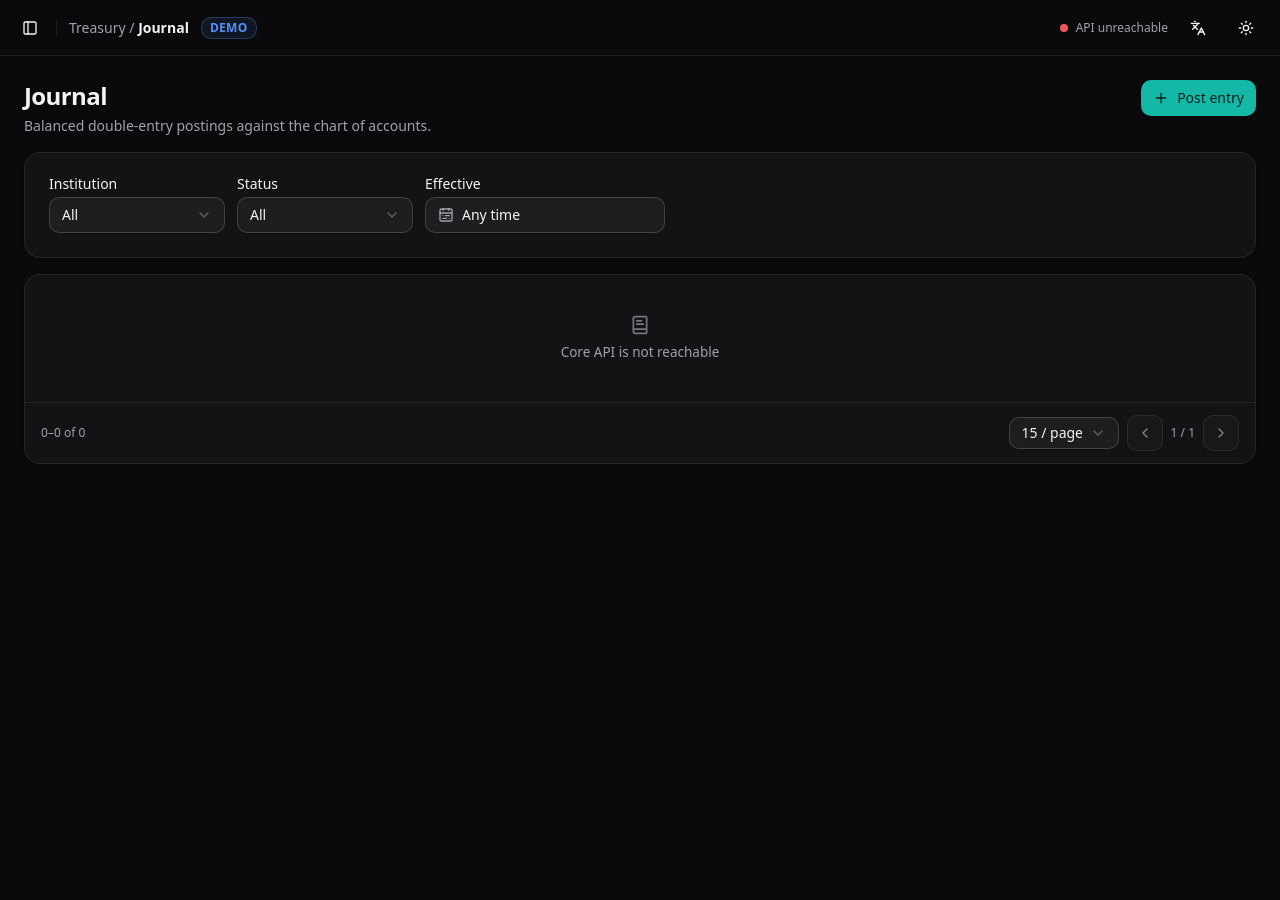
Test: journal and balances › blocks posting an unbalanced entry and enables it once balanced
Step 1. Click the button "Post entry" → (1199, 98), box [1141,80,1256,116]
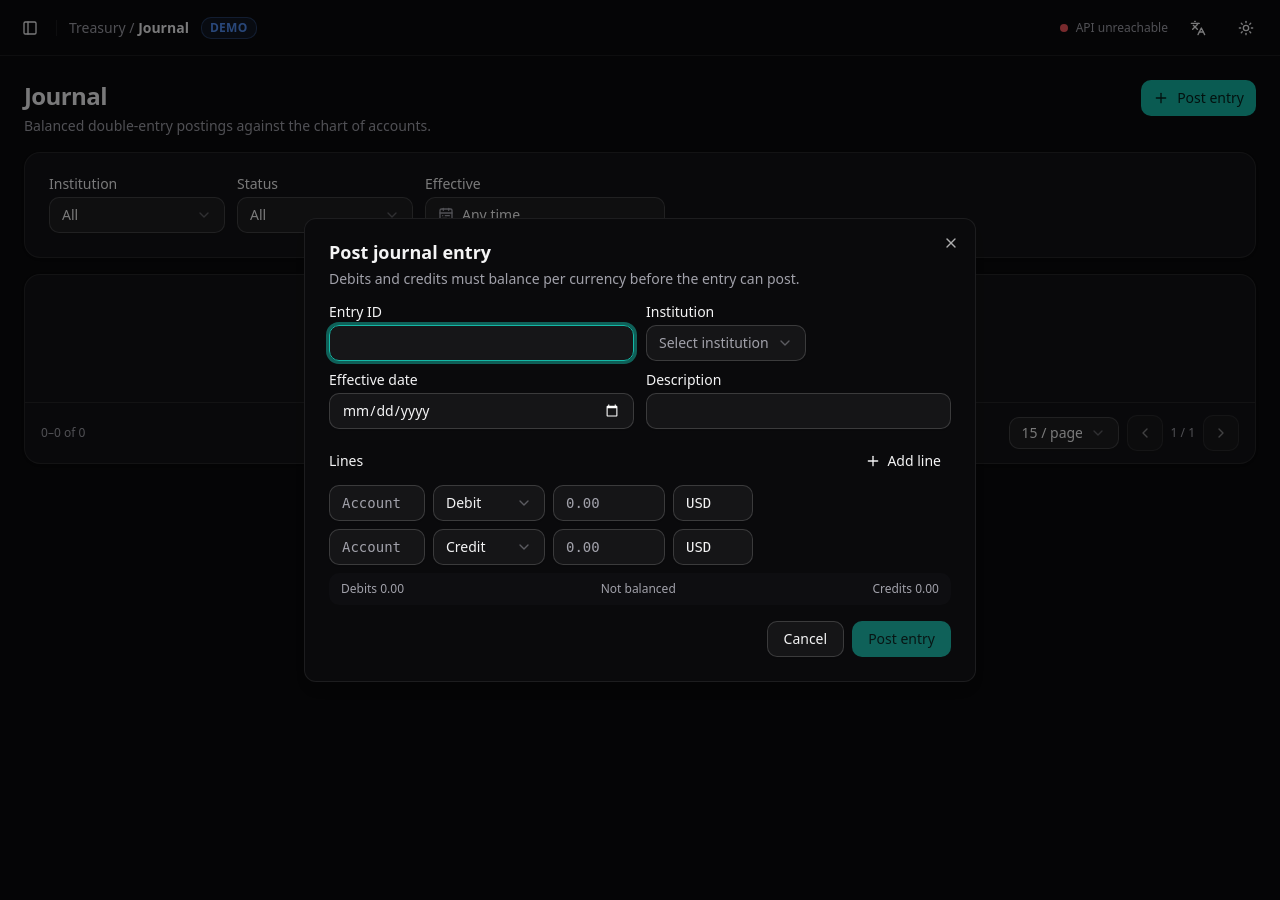
Check: the button "Post entry" is disabled, box [852,621,951,657]
Step 2. Type "je-test-1" into the field labelled "Entry ID" → (482, 343), box [329,325,634,361]
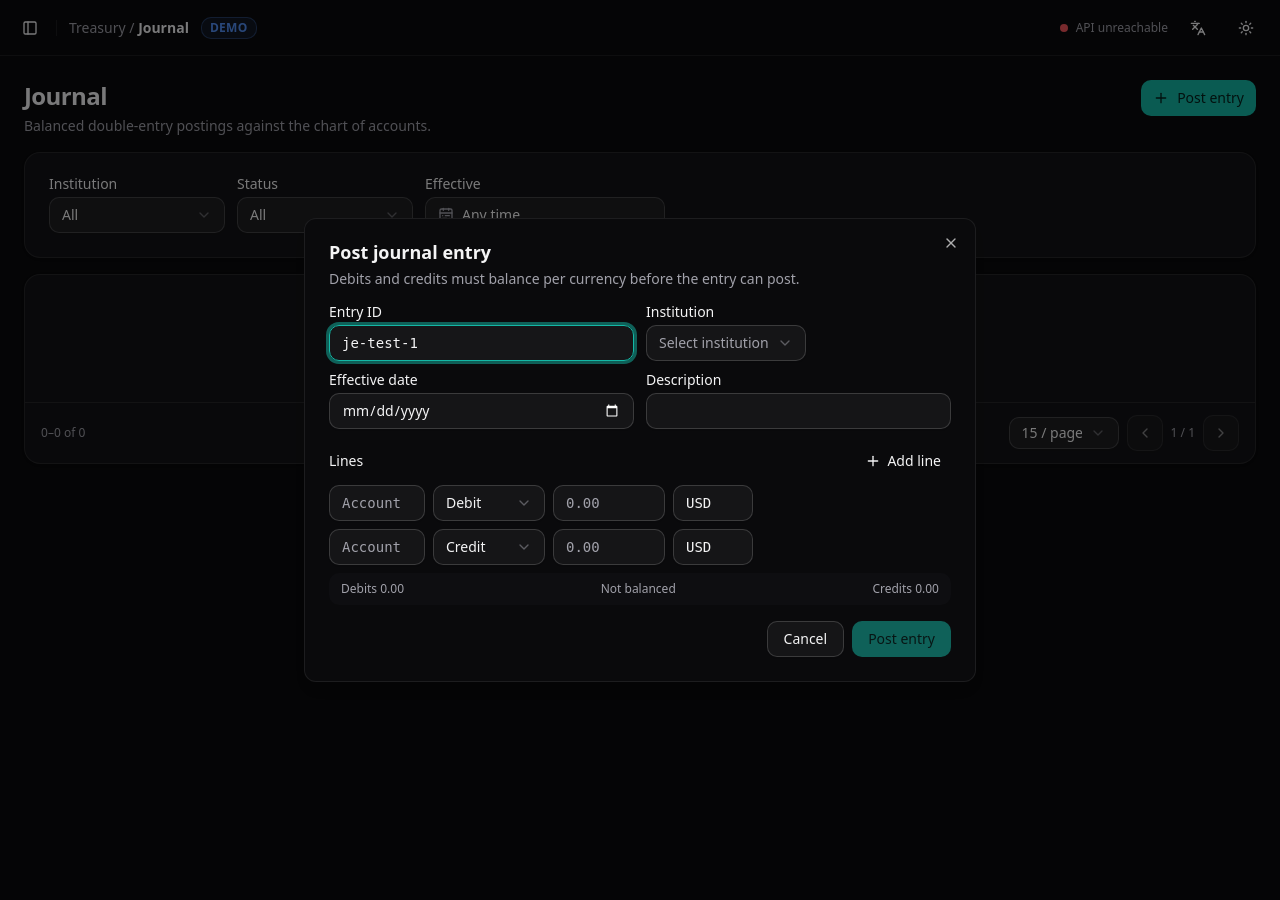
Step 3. Type "100" into the number field named "Line 1 amount" → (609, 503), box [553,485,665,521]
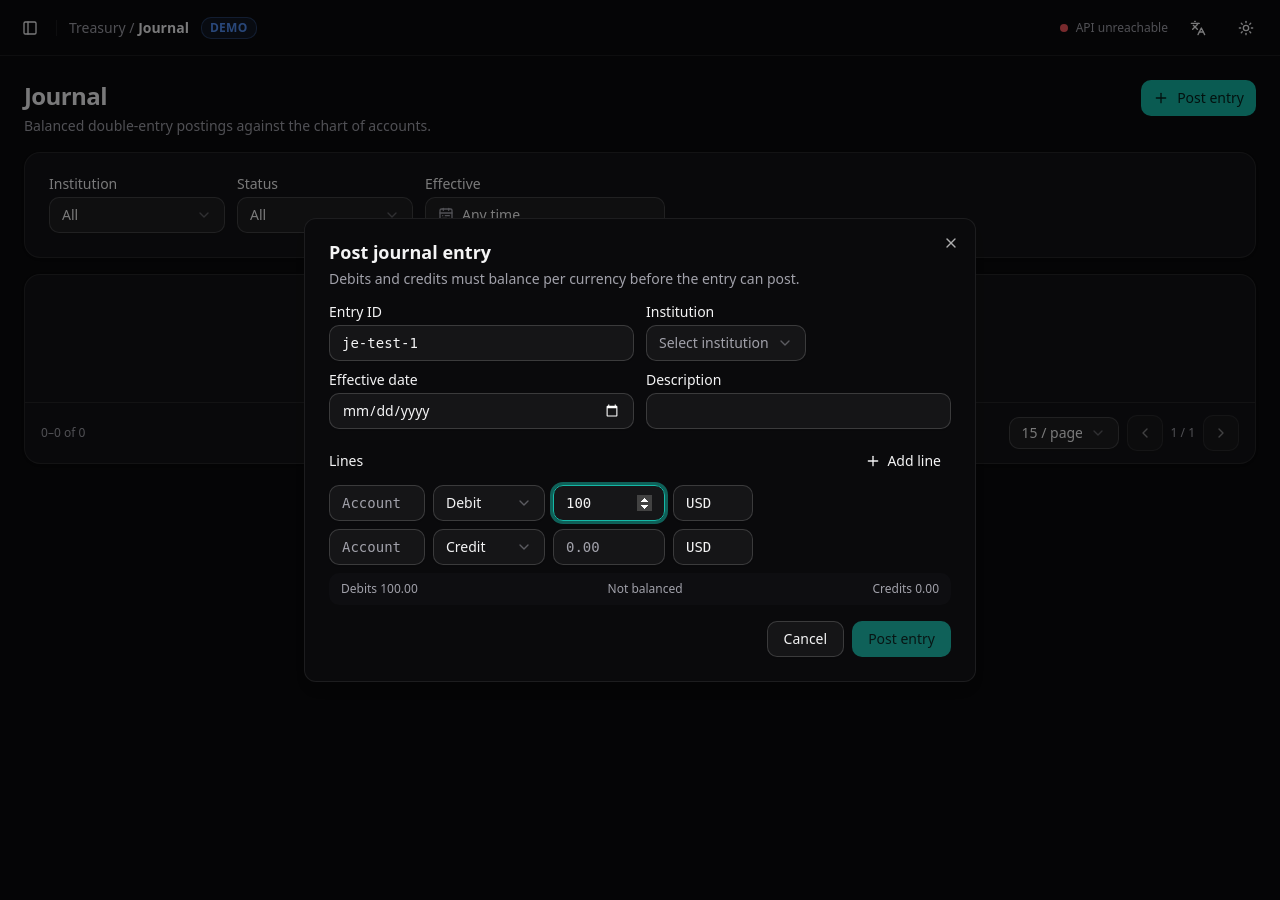
Step 4. Type "60" into the number field named "Line 2 amount" → (609, 547), box [553,529,665,565]
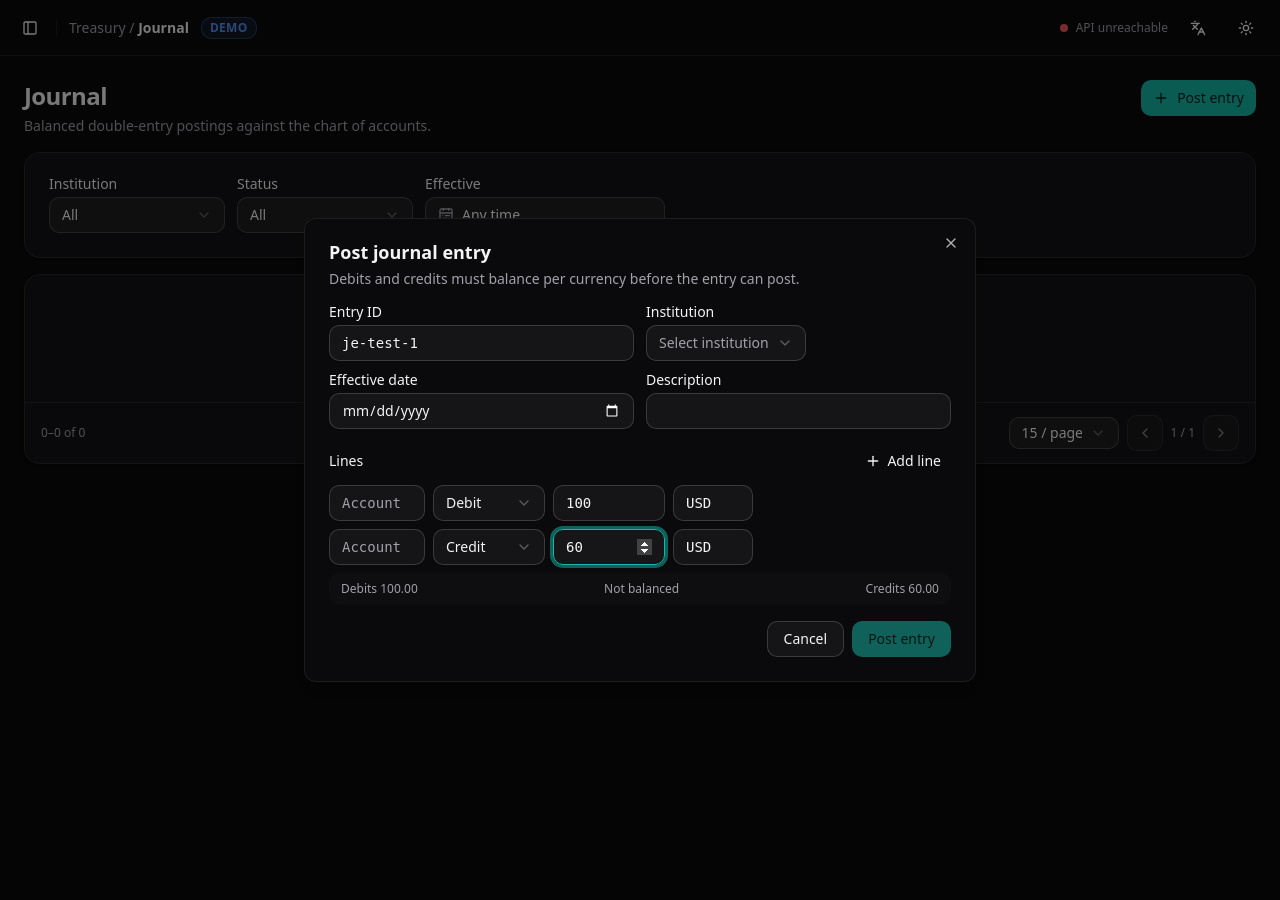
Check: the text "Not balanced" is shown, box [604,581,679,597]
Step 5. Replace the text in the number field named "Line 2 amount" with "100" → (609, 547), box [553,529,665,565]
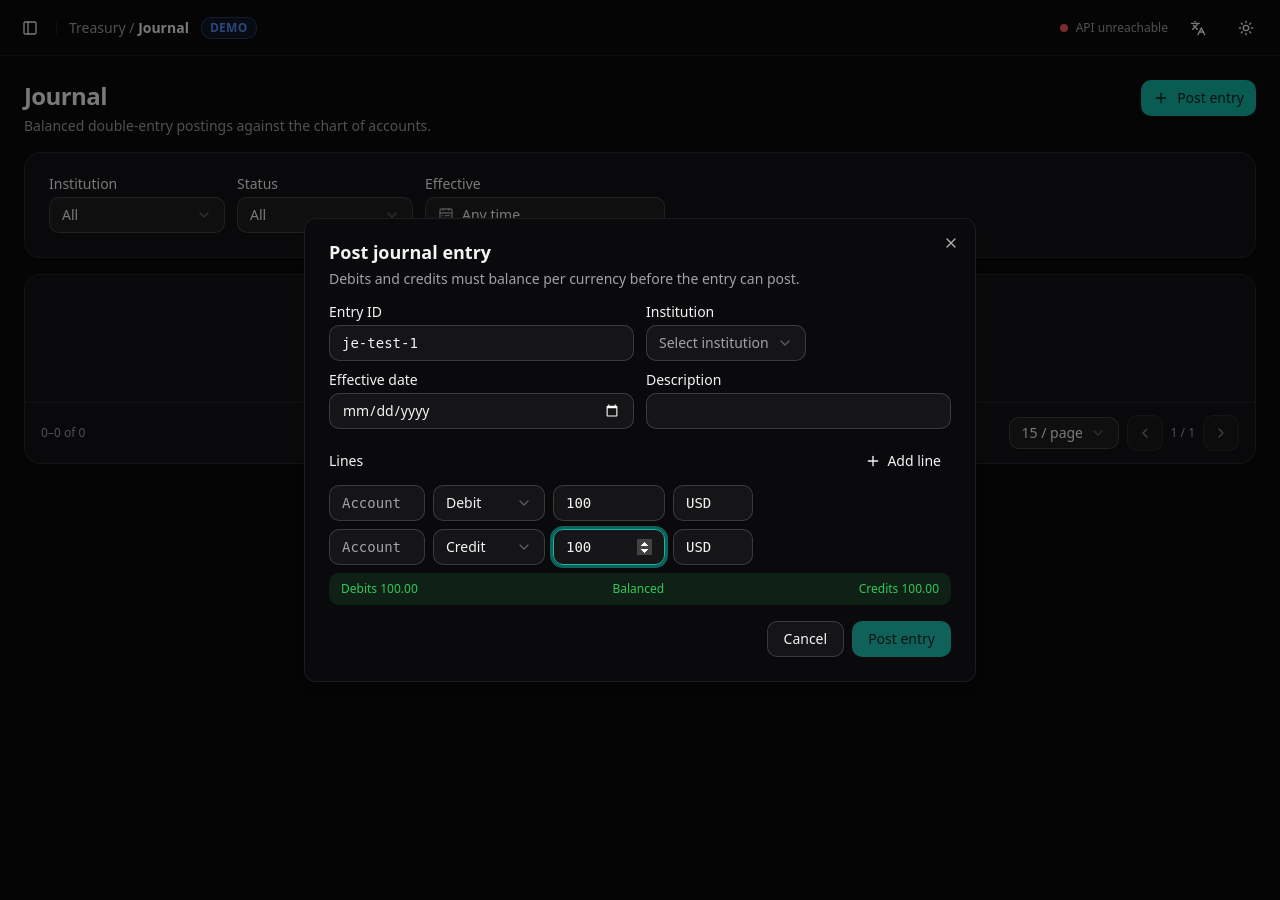
Check: the text "Balanced" is shown, box [612,581,664,597]
